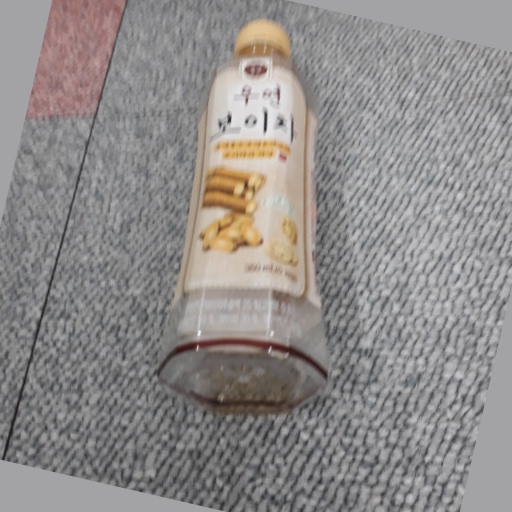Plastic_0: (157, 19, 332, 417)
